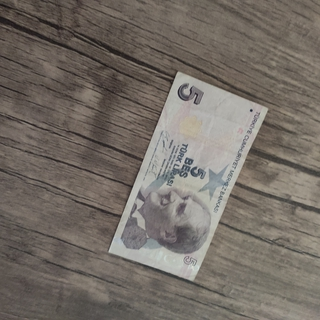5TLFront: (107, 70, 268, 282)
